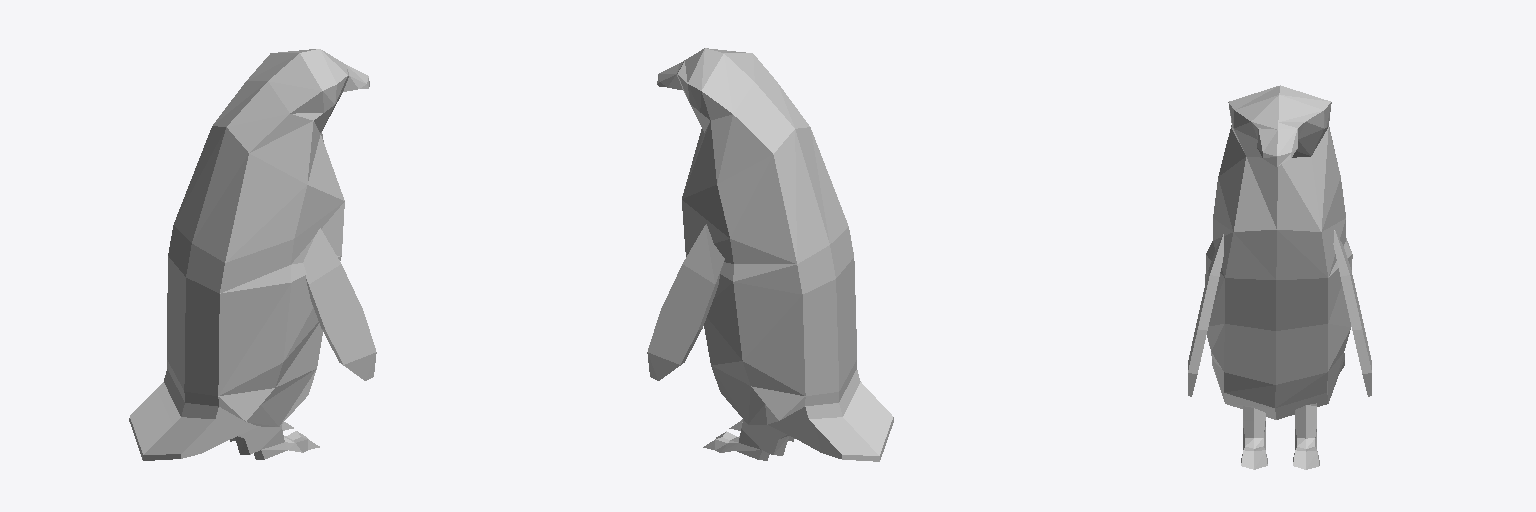
Rendered from Pingouin-NEW.obj.
3 renders of one model, left to right at view 1: azimuth 30°, elevation 25°; view 2: azimuth 150°, elevation 25°; view 3: azimuth 270°, elevation 25°, orthographic.
Parts seen in each view (by area): view 1: Plane.010; view 2: Plane.010; view 3: Plane.010.
Boxes of the visible parts, x1,y1,x2,y2 form: Plane.010: [129, 49, 376, 460]; Plane.010: [647, 48, 893, 461]; Plane.010: [1188, 85, 1371, 469].
Size of the model in its own units: 2.01 by 3.28 by 1.43.